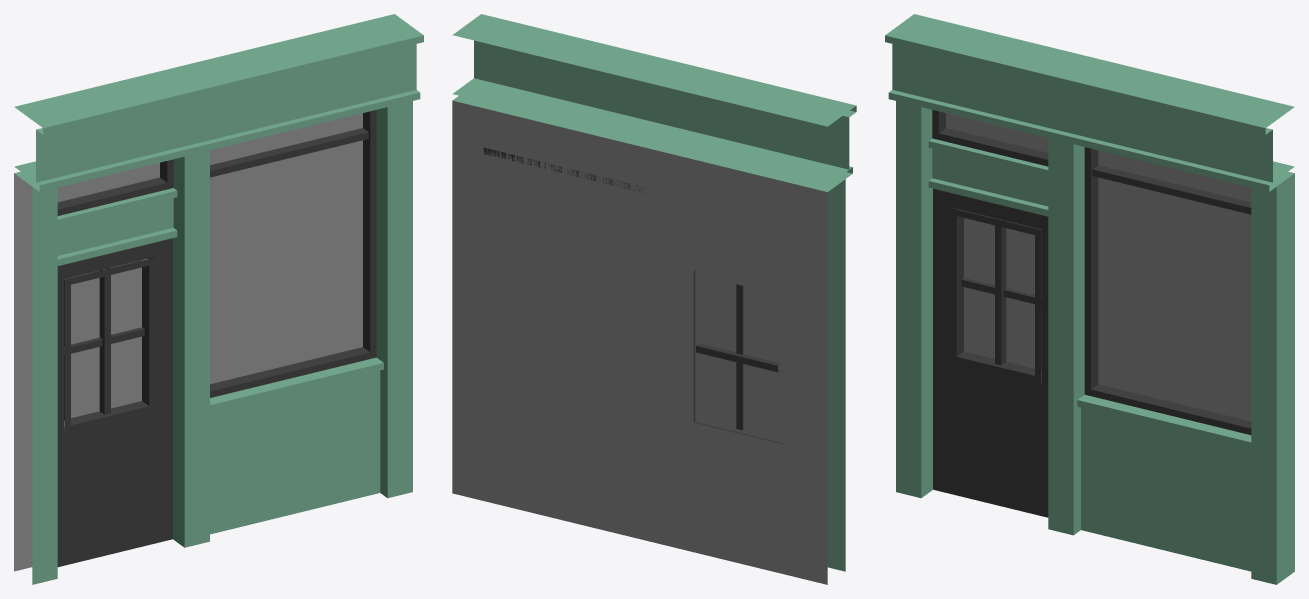
File: object_B1_Ground_floor.glb
3 views of the same model, side by side, from view 1: azimuth 30°, elevation 25°; view 2: azimuth 150°, elevation 25°; view 3: azimuth 330°, elevation 25° (orthographic).
Visible parts, largest first — view 1: B1 Ground floor; view 2: B1 Ground floor; view 3: B1 Ground floor.
Boxes of the visible parts, x1,y1,x2,y2 form: B1 Ground floor: (14, 14, 423, 584); B1 Ground floor: (452, 14, 856, 584); B1 Ground floor: (885, 14, 1294, 584).
Size of the model in its own units: 3 by 3.5 by 0.4439.
